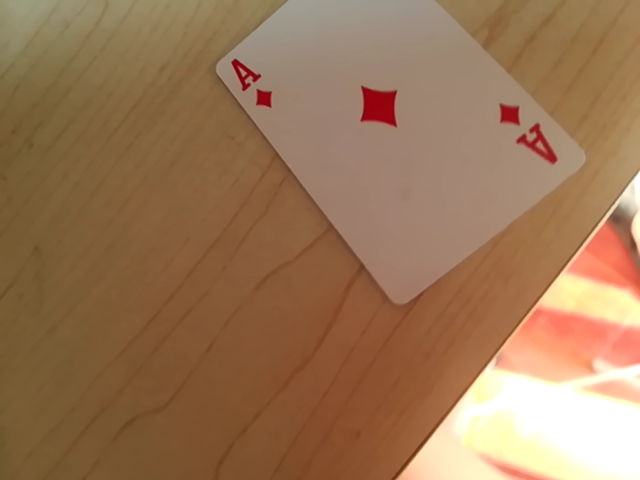fk a: (495, 98, 560, 171), (219, 53, 275, 116)
